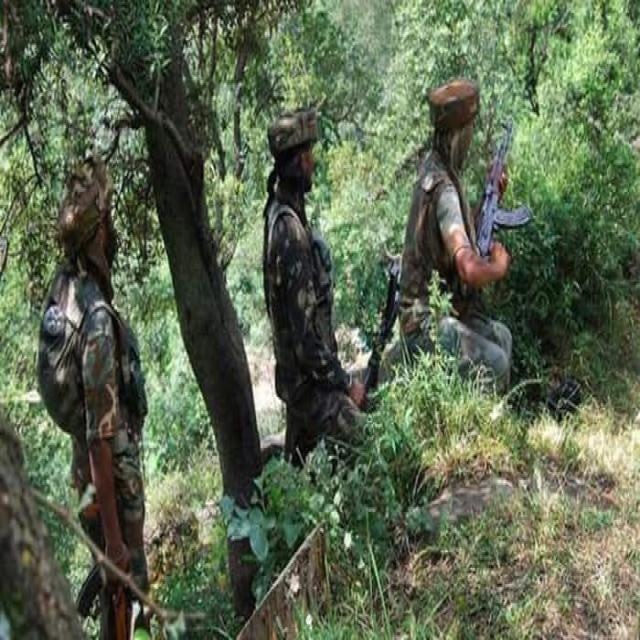Forest: (0, 0, 640, 640)
Militant: (39, 123, 167, 640), (394, 58, 547, 408), (254, 99, 376, 478)
